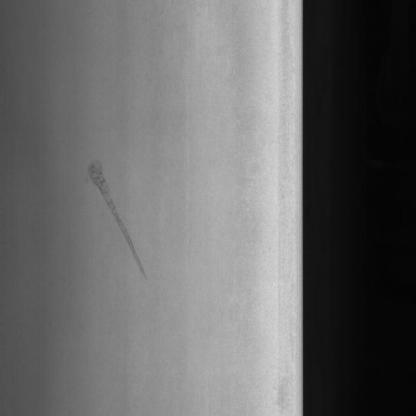water_spot: (72, 141, 152, 290)
